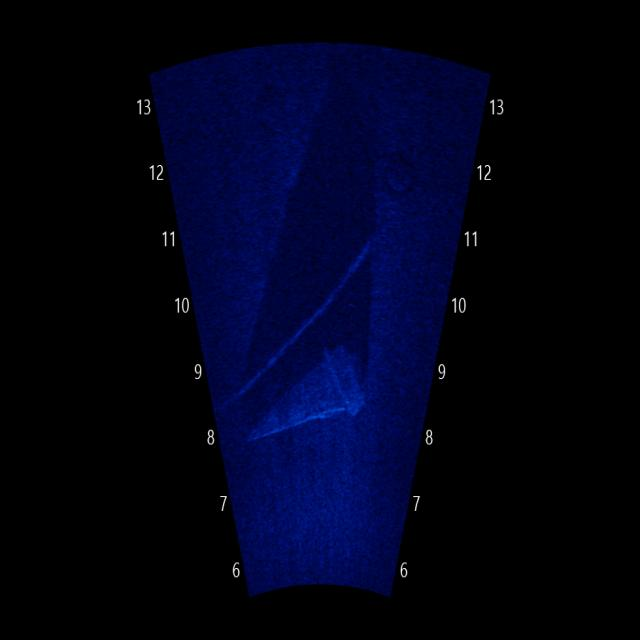circle: (250, 81, 298, 142), (379, 144, 421, 196)
triangle: (240, 335, 378, 460)
